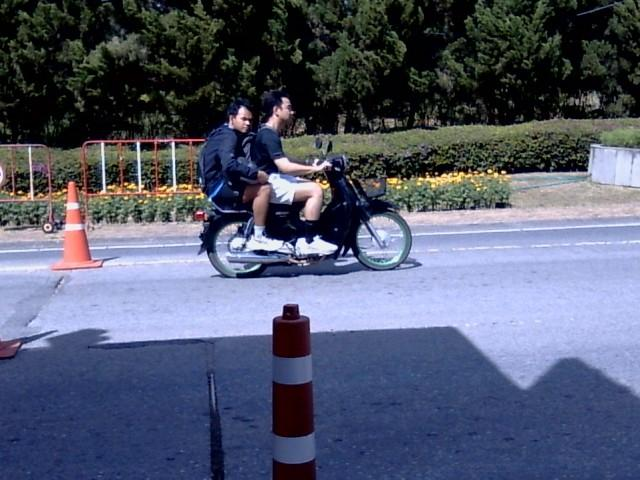motor: (193, 155, 411, 277)
no-helmet: (260, 89, 297, 126), (226, 97, 254, 131)
person: (252, 90, 336, 253), (200, 98, 282, 250)
